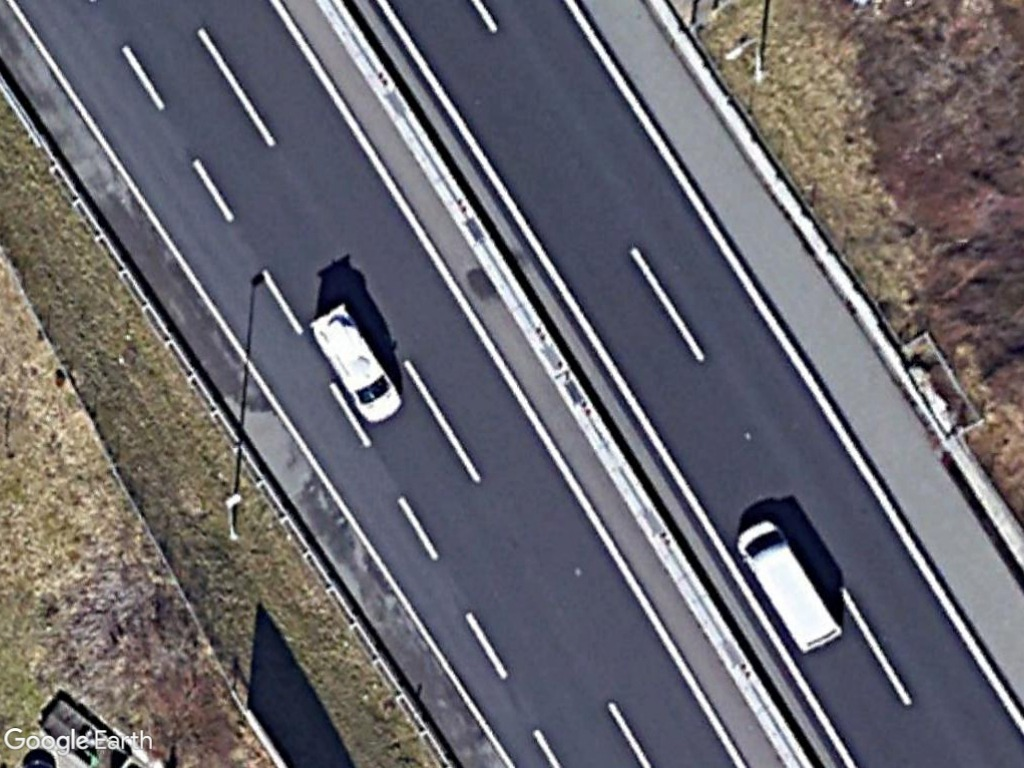van: (734, 516, 847, 656), (304, 296, 407, 431)
